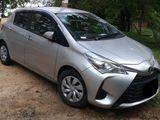car: (0, 6, 159, 109)
